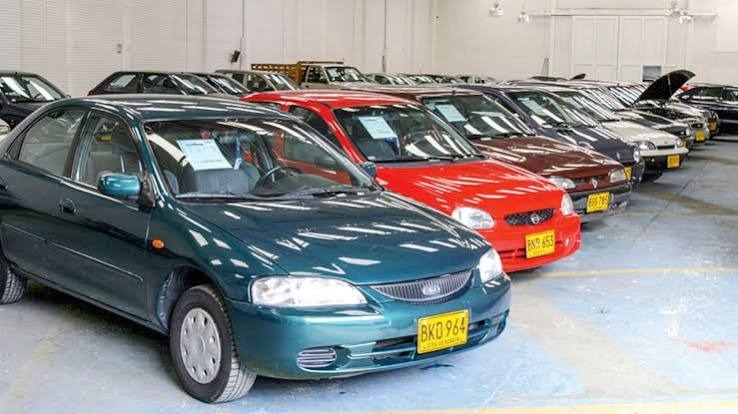car: (1, 100, 502, 406), (125, 87, 525, 312), (46, 72, 472, 274), (24, 76, 343, 237), (270, 99, 564, 265), (110, 78, 419, 224), (239, 88, 558, 206), (359, 155, 590, 277), (25, 73, 322, 158), (240, 81, 474, 171), (484, 96, 667, 176), (462, 114, 646, 192), (469, 112, 652, 189), (511, 95, 685, 174), (420, 92, 585, 173), (516, 86, 689, 156), (351, 93, 506, 165), (247, 67, 464, 118), (398, 92, 535, 162), (582, 115, 682, 182), (265, 69, 425, 109), (82, 71, 253, 103), (634, 97, 728, 144), (1, 71, 68, 128), (685, 90, 736, 140), (679, 83, 738, 122)
